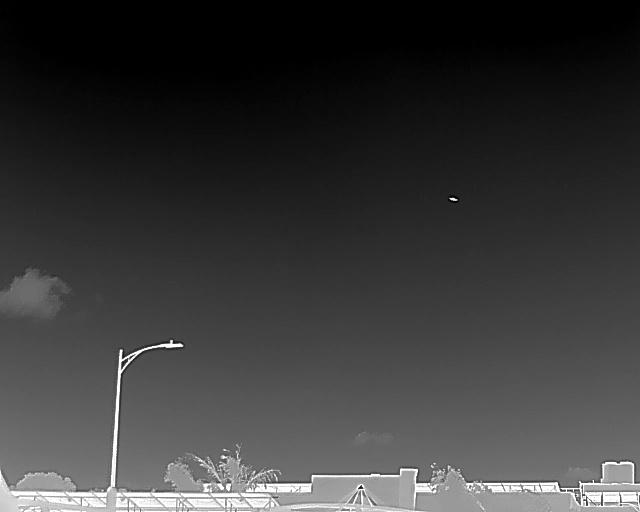fpv-drone: (448, 196, 458, 202)
